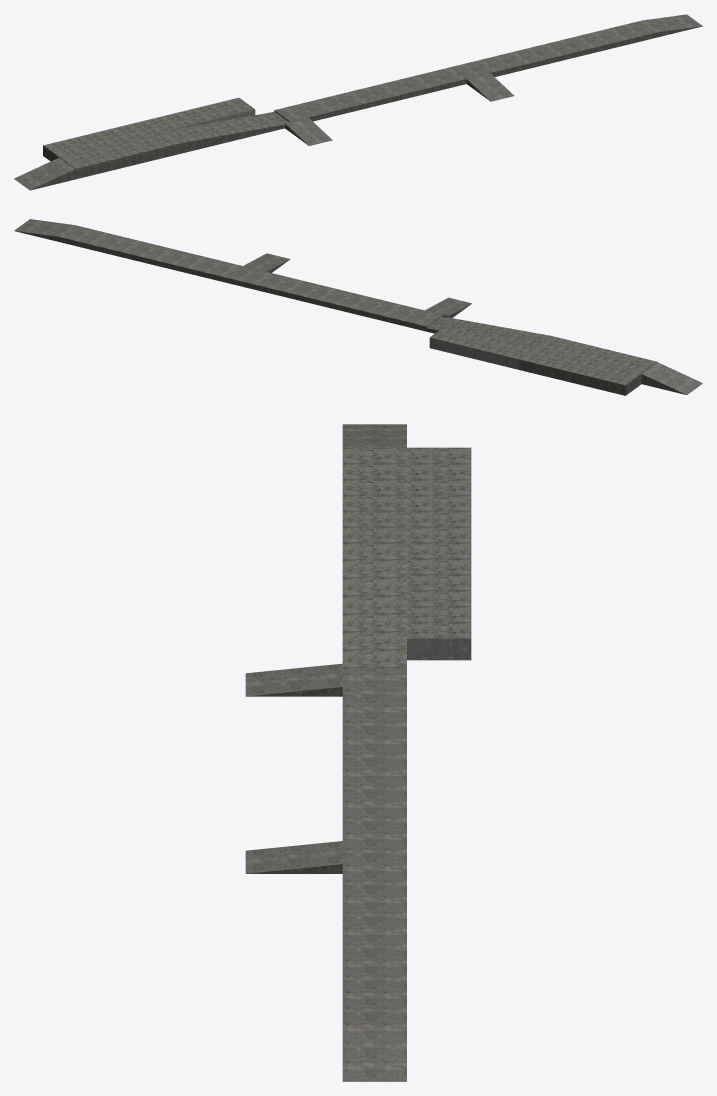
Rendered from Concrete_FloorGround.FBX.
3 renders of one model, top to bottom at view 1: azimuth 30°, elevation 25°; view 2: azimuth 150°, elevation 25°; view 3: azimuth 270°, elevation 25°, orthographic. The views are drawn at different scales.
Visible parts, largest first — view 1: Concrete_FloorGround01a, Concrete_FloorGround01c, Concrete_FloorGround01b, Concrete_FloorGround01d, Concrete_FloorGround01e, Concrete_FloorGround01g, Concrete_FloorGround01f; view 2: Concrete_FloorGround01a, Concrete_FloorGround01c, Concrete_FloorGround01d, Concrete_FloorGround01b, Concrete_FloorGround01g, Concrete_FloorGround01e, Concrete_FloorGround01f; view 3: Concrete_FloorGround01a, Concrete_FloorGround01c, Concrete_FloorGround01b, Concrete_FloorGround01d, Concrete_FloorGround01e, Concrete_FloorGround01f, Concrete_FloorGround01g.
Part boxes in pixels (<box>): Concrete_FloorGround01a: <box>274,20,657,122</box>; Concrete_FloorGround01c: <box>43,119,181,179</box>; Concrete_FloorGround01b: <box>166,111,288,153</box>; Concrete_FloorGround01d: <box>150,97,255,131</box>; Concrete_FloorGround01e: <box>285,73,514,145</box>; Concrete_FloorGround01g: <box>14,157,75,190</box>; Concrete_FloorGround01f: <box>642,14,702,37</box>; Concrete_FloorGround01a: <box>59,225,442,331</box>; Concrete_FloorGround01c: <box>519,336,657,395</box>; Concrete_FloorGround01d: <box>429,326,534,369</box>; Concrete_FloorGround01b: <box>426,316,550,347</box>; Concrete_FloorGround01g: <box>641,362,702,394</box>; Concrete_FloorGround01e: <box>243,253,471,317</box>; Concrete_FloorGround01f: <box>14,219,74,241</box>; Concrete_FloorGround01a: <box>342,668,406,1027</box>; Concrete_FloorGround01c: <box>342,447,471,551</box>; Concrete_FloorGround01b: <box>342,551,406,668</box>; Concrete_FloorGround01d: <box>407,551,471,660</box>; Concrete_FloorGround01e: <box>245,663,342,873</box>; Concrete_FloorGround01f: <box>342,1027,406,1081</box>; Concrete_FloorGround01g: <box>342,424,406,447</box>.
Bounding box in the file's own units: 4785 × 72.01 × 694.
